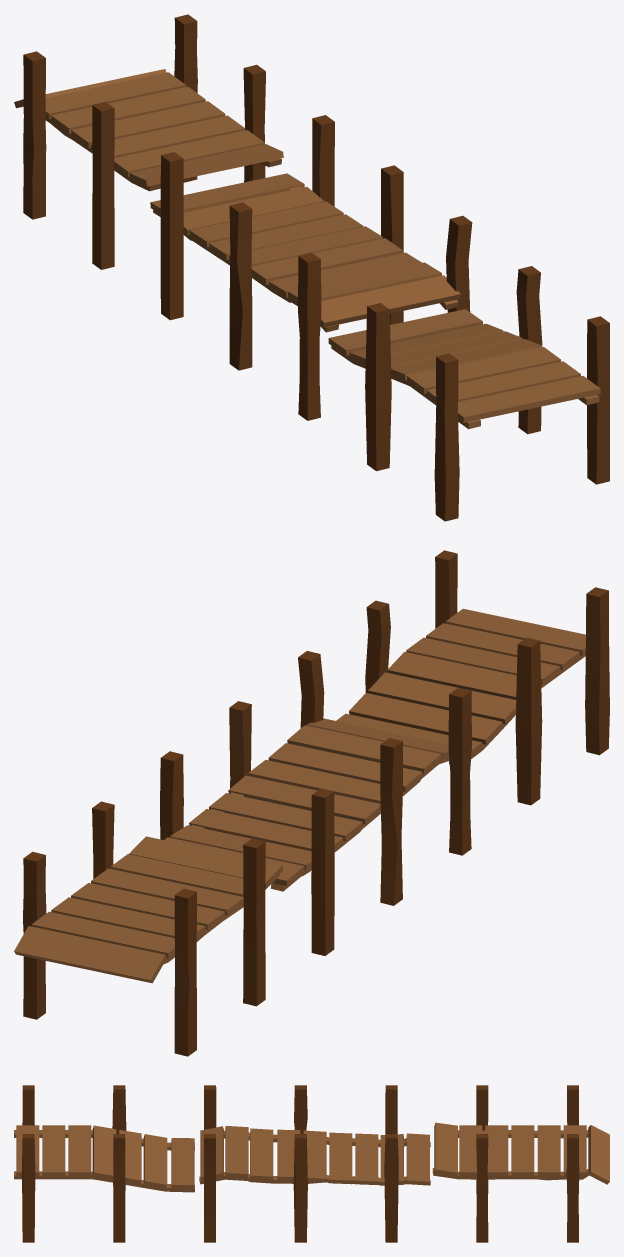
The model's file is Pier.fbx.
The picture shows the model from 3 angles, top to bottom: view 1: azimuth 30°, elevation 25°; view 2: azimuth 150°, elevation 25°; view 3: azimuth 270°, elevation 25°; orthographic projection. The views are drawn at different scales.
Parts seen in each view (by area): view 1: Cube; view 2: Cube; view 3: Cube.
Boxes of the visible parts, x1,y1,x2,y2 form: Cube: (14, 14, 609, 521); Cube: (14, 550, 609, 1056); Cube: (14, 1085, 609, 1242).
Bounding box in the file's own units: 333 × 300 × 1550.
